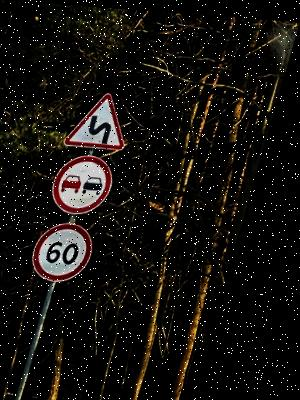Speed Limit -60-: (37, 215, 114, 283)
